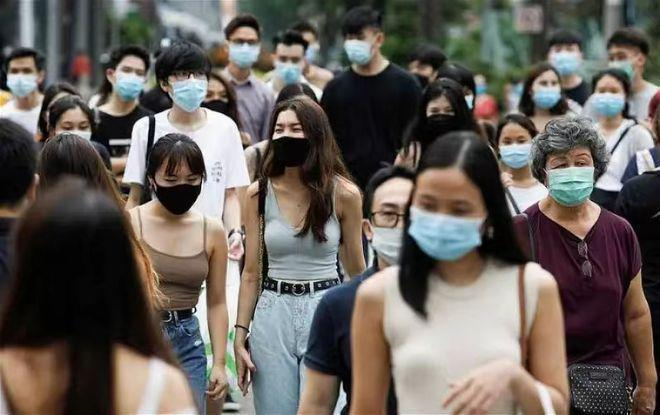mask: (403, 159, 492, 261), (546, 135, 598, 207), (154, 148, 206, 215), (164, 51, 214, 118), (268, 107, 313, 167), (592, 68, 631, 118), (345, 19, 378, 68), (532, 65, 561, 107)
